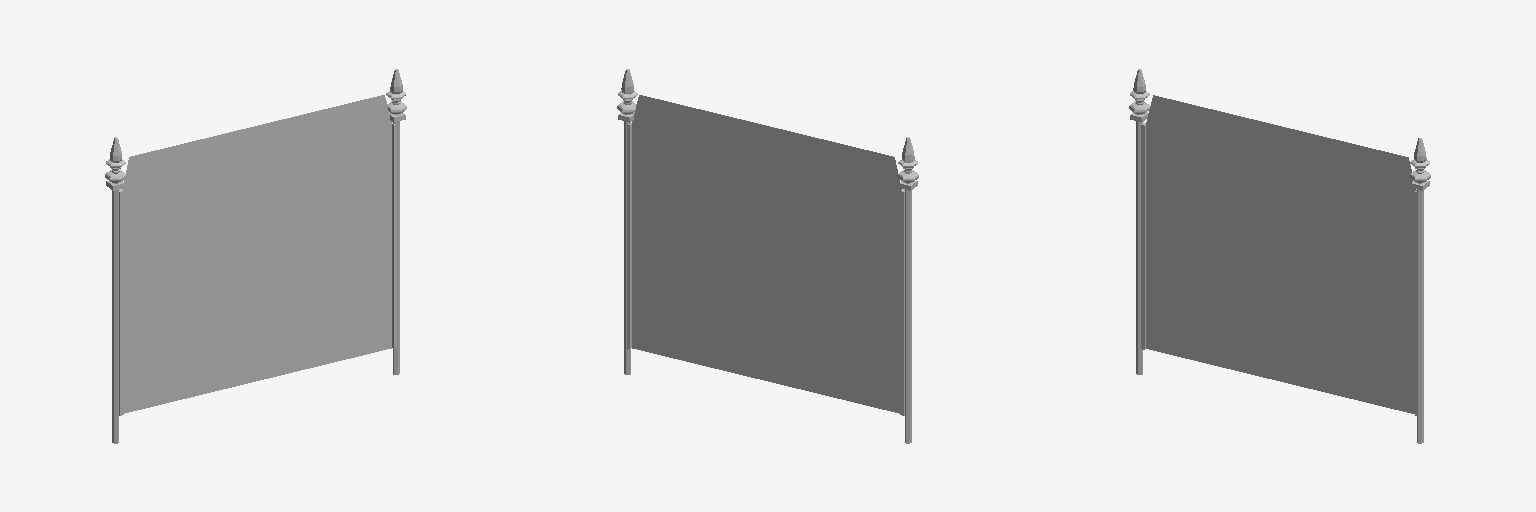
File: fense.obj
3 renders of one model, left to right at view 1: azimuth 30°, elevation 25°; view 2: azimuth 150°, elevation 25°; view 3: azimuth 330°, elevation 25°, orthographic.
Visible parts, largest first — view 1: model_0; view 2: model_0; view 3: model_0.
Part boxes in pixels (x1,y1,x2,y2): model_0: (105,69,406,443); model_0: (617,69,918,443); model_0: (1129,69,1430,443).
Size of the model in its own units: 4.17 by 4.08 by 0.2673.